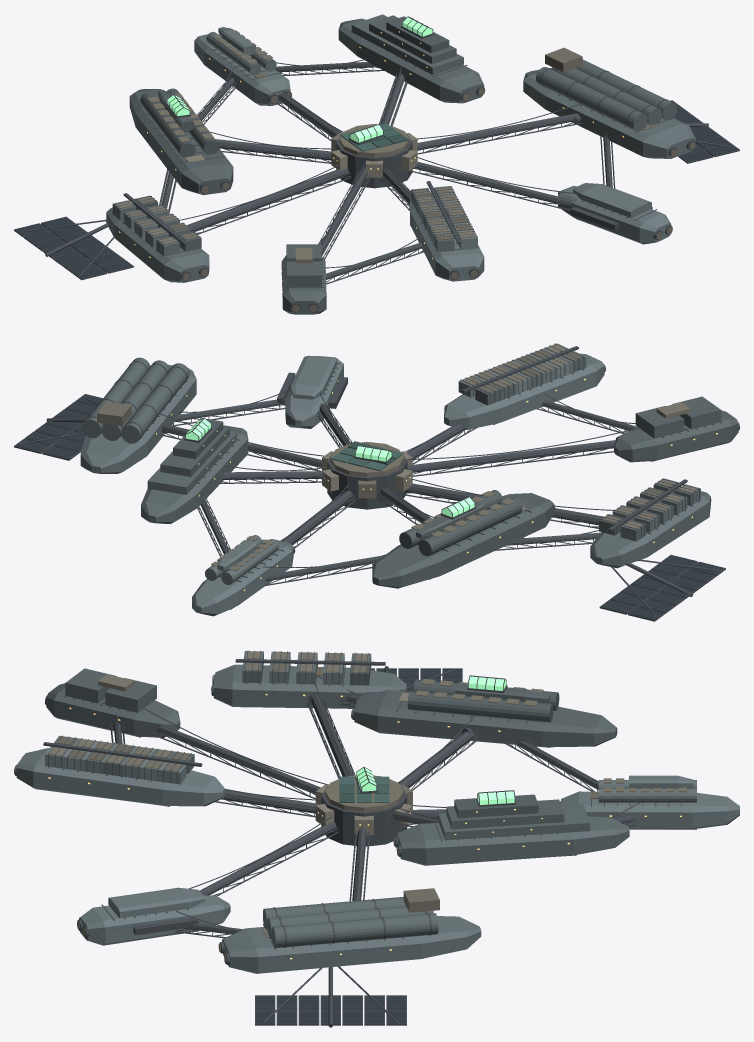
File: silent_fleet.glb
3 views of the same model, one above another, from view 1: azimuth 30°, elevation 25°; view 2: azimuth 150°, elevation 25°; view 3: azimuth 270°, elevation 25° (orthographic). The views are drawn at different scales.
Parts seen in each view (by area): view 1: Shared infrastructure | Structural graphite, Ship 04 Twin tank carrier | Faded hull paint, Ship 02 Terraced transport | Faded hull paint, Ship 01 Colony ark | Faded hull paint, Ship 03 Container freighter | Faded hull paint, Radiator fields | Radiator carbon, Ship 07 Long range passenger ark | Faded hull paint, Ship 06 Workshop tender | Faded hull paint, Ship 05 Spine freighter | Faded hull paint, Ship 08 Old colony ferry | Faded hull paint, Common hub | Reclaimed pale panels, Ship 05 Spine freighter | Structural graphite (+11 smaller); view 2: Shared infrastructure | Structural graphite, Ship 01 Colony ark | Faded hull paint, Ship 04 Twin tank carrier | Faded hull paint, Ship 02 Terraced transport | Faded hull paint, Ship 05 Spine freighter | Faded hull paint, Radiator fields | Radiator carbon, Ship 03 Container freighter | Faded hull paint, Ship 08 Old colony ferry | Faded hull paint, Ship 07 Long range passenger ark | Faded hull paint, Ship 06 Workshop tender | Faded hull paint, Common hub | Reclaimed pale panels, Ship 05 Spine freighter | Structural graphite (+10 smaller); view 3: Shared infrastructure | Structural graphite, Ship 04 Twin tank carrier | Faded hull paint, Ship 01 Colony ark | Faded hull paint, Ship 02 Terraced transport | Faded hull paint, Ship 05 Spine freighter | Faded hull paint, Ship 03 Container freighter | Faded hull paint, Ship 07 Long range passenger ark | Faded hull paint, Ship 08 Old colony ferry | Faded hull paint, Ship 06 Workshop tender | Faded hull paint, Radiator fields | Radiator carbon, Common hub | Reclaimed pale panels, Common hub | Structural graphite (+9 smaller).
Boxes of the visible parts, x1,y1,x2,y2 form: Shared infrastructure | Structural graphite: [14, 16, 739, 284]; Ship 04 Twin tank carrier | Faded hull paint: [523, 59, 695, 158]; Ship 02 Terraced transport | Faded hull paint: [338, 14, 484, 103]; Ship 01 Colony ark | Faded hull paint: [129, 88, 233, 195]; Ship 03 Container freighter | Faded hull paint: [106, 195, 209, 282]; Radiator fields | Radiator carbon: [15, 100, 738, 278]; Ship 07 Long range passenger ark | Faded hull paint: [194, 27, 290, 105]; Ship 06 Workshop tender | Faded hull paint: [558, 183, 671, 244]; Ship 05 Spine freighter | Faded hull paint: [410, 186, 484, 281]; Ship 08 Old colony ferry | Faded hull paint: [281, 244, 326, 314]; Common hub | Reclaimed pale panels: [331, 124, 417, 177]; Ship 05 Spine freighter | Structural graphite: [411, 181, 478, 279]; Shared infrastructure | Structural graphite: [14, 389, 725, 621]; Ship 01 Colony ark | Faded hull paint: [372, 490, 554, 588]; Ship 04 Twin tank carrier | Faded hull paint: [80, 357, 196, 473]; Ship 02 Terraced transport | Faded hull paint: [141, 418, 248, 523]; Ship 05 Spine freighter | Faded hull paint: [444, 343, 604, 429]; Radiator fields | Radiator carbon: [15, 394, 723, 619]; Ship 03 Container freighter | Faded hull paint: [590, 478, 710, 568]; Ship 08 Old colony ferry | Faded hull paint: [614, 396, 738, 462]; Ship 07 Long range passenger ark | Faded hull paint: [192, 535, 293, 616]; Ship 06 Workshop tender | Faded hull paint: [285, 355, 343, 428]; Common hub | Reclaimed pale panels: [322, 442, 412, 498]; Ship 05 Spine freighter | Structural graphite: [460, 343, 605, 424]; Shared infrastructure | Structural graphite: [110, 666, 639, 1027]; Ship 04 Twin tank carrier | Faded hull paint: [222, 897, 481, 973]; Ship 01 Colony ark | Faded hull paint: [354, 679, 617, 747]; Ship 02 Terraced transport | Faded hull paint: [396, 794, 629, 865]; Ship 05 Spine freighter | Faded hull paint: [16, 735, 225, 806]; Ship 03 Container freighter | Faded hull paint: [213, 651, 406, 708]; Ship 07 Long range passenger ark | Faded hull paint: [561, 775, 739, 829]; Ship 08 Old colony ferry | Faded hull paint: [46, 668, 180, 737]; Ship 06 Workshop tender | Faded hull paint: [79, 887, 230, 945]; Radiator fields | Radiator carbon: [255, 668, 461, 1023]; Common hub | Reclaimed pale panels: [315, 775, 412, 834]; Common hub | Structural graphite: [321, 786, 407, 846].
Bounding box in the file's own units: 2000 × 313 × 1753.
